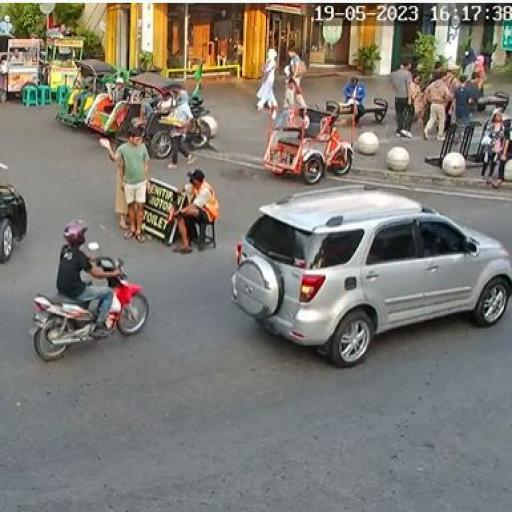mobil: (232, 197, 512, 362)
motor: (28, 244, 148, 374)
